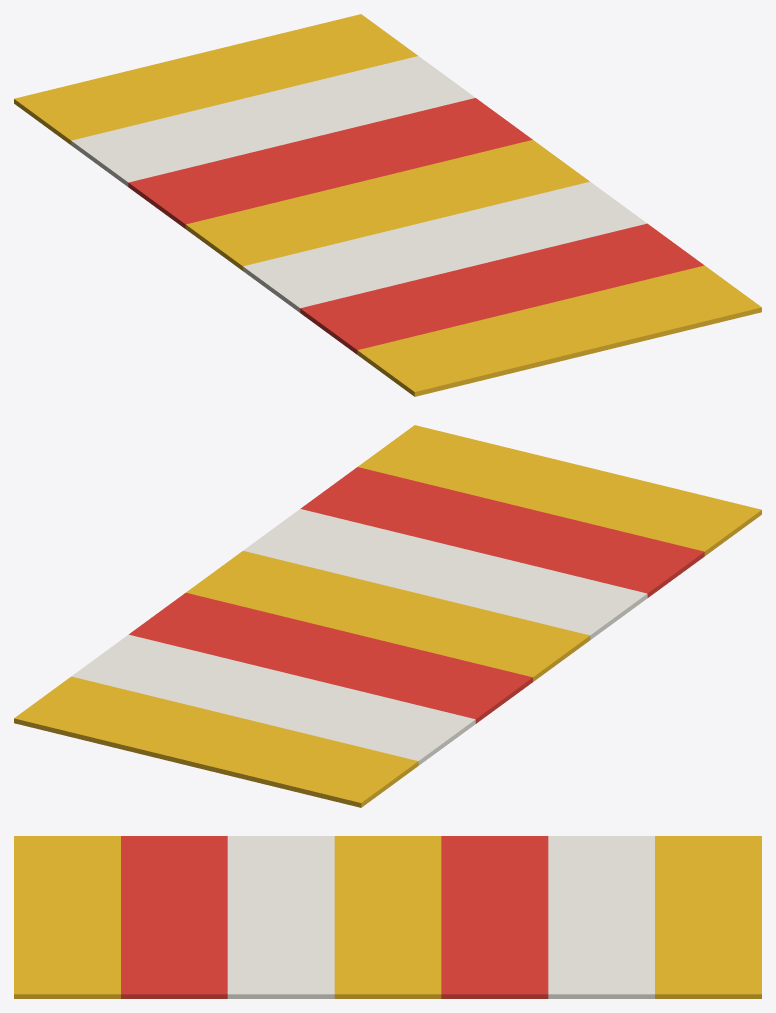
Rendered from Prop_Towel_A.fbx.
The picture shows the model from 3 angles, top to bottom: view 1: azimuth 30°, elevation 25°; view 2: azimuth 150°, elevation 25°; view 3: azimuth 270°, elevation 25°; orthographic projection. The views are drawn at different scales.
Parts seen in each view (by area): view 1: Prop_Towel_A.001; view 2: Prop_Towel_A.001; view 3: Prop_Towel_A.001.
Part boxes in pixels (<box>): Prop_Towel_A.001: <box>14,14,761,396</box>; Prop_Towel_A.001: <box>14,425,761,807</box>; Prop_Towel_A.001: <box>14,836,761,998</box>.
Size of the model in its own units: 0.9 by 0.012 by 1.8.
